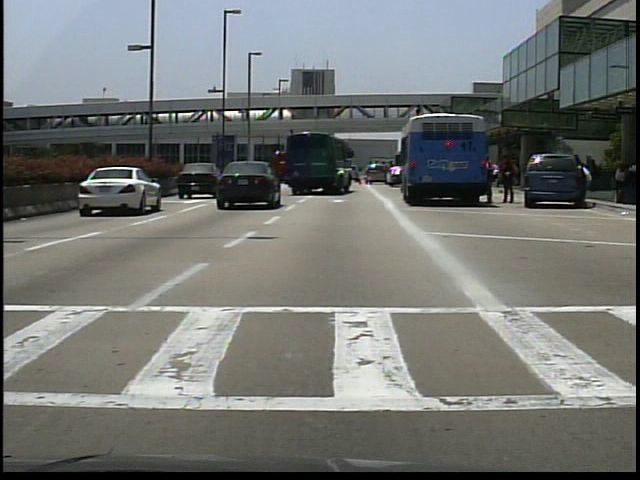person: (499, 156, 516, 204), (485, 153, 500, 204), (576, 162, 595, 202)
